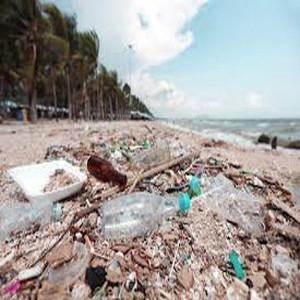Plastic: (103, 187, 193, 243), (0, 201, 61, 231)
